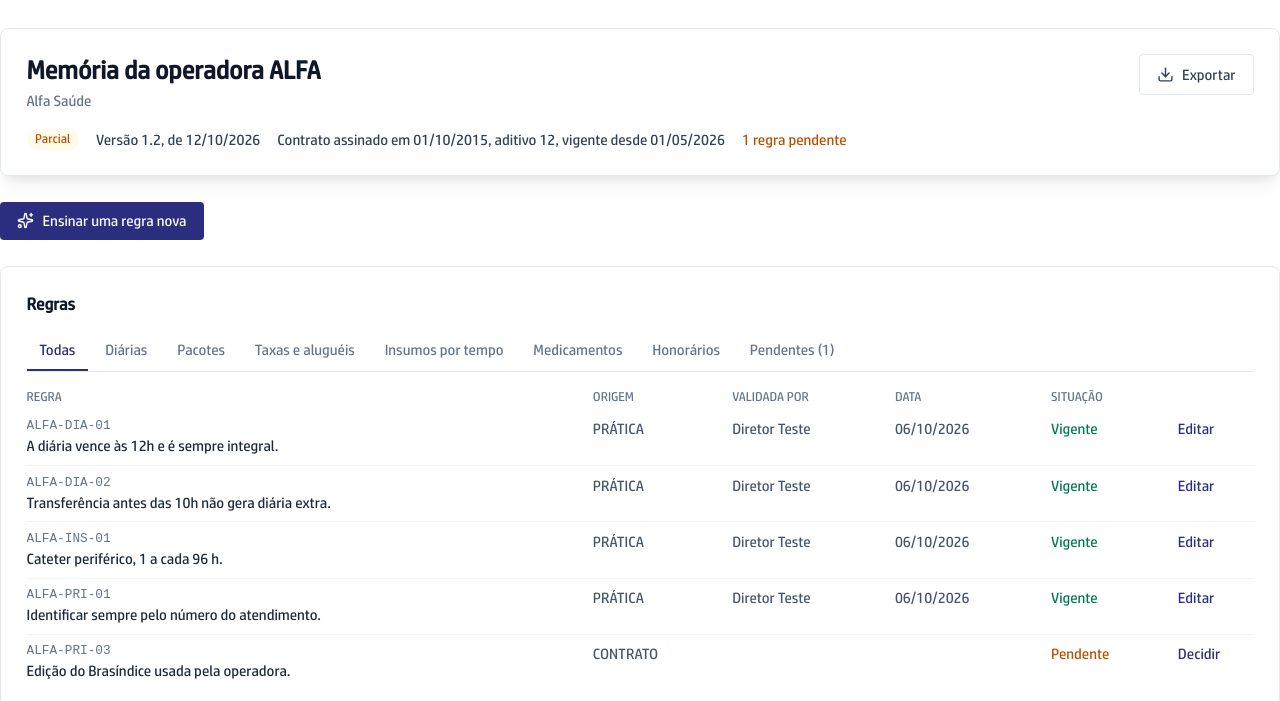
Test: editar e decidir › editar manda o texto, o tipo e a origem, mostra a versão nova e relê a memória
This screenshot has width=1280, height=701.
Click the button "Editar" in the row of "ALFA-DIA-01" at (1196, 429), box [1178,418,1214,440]
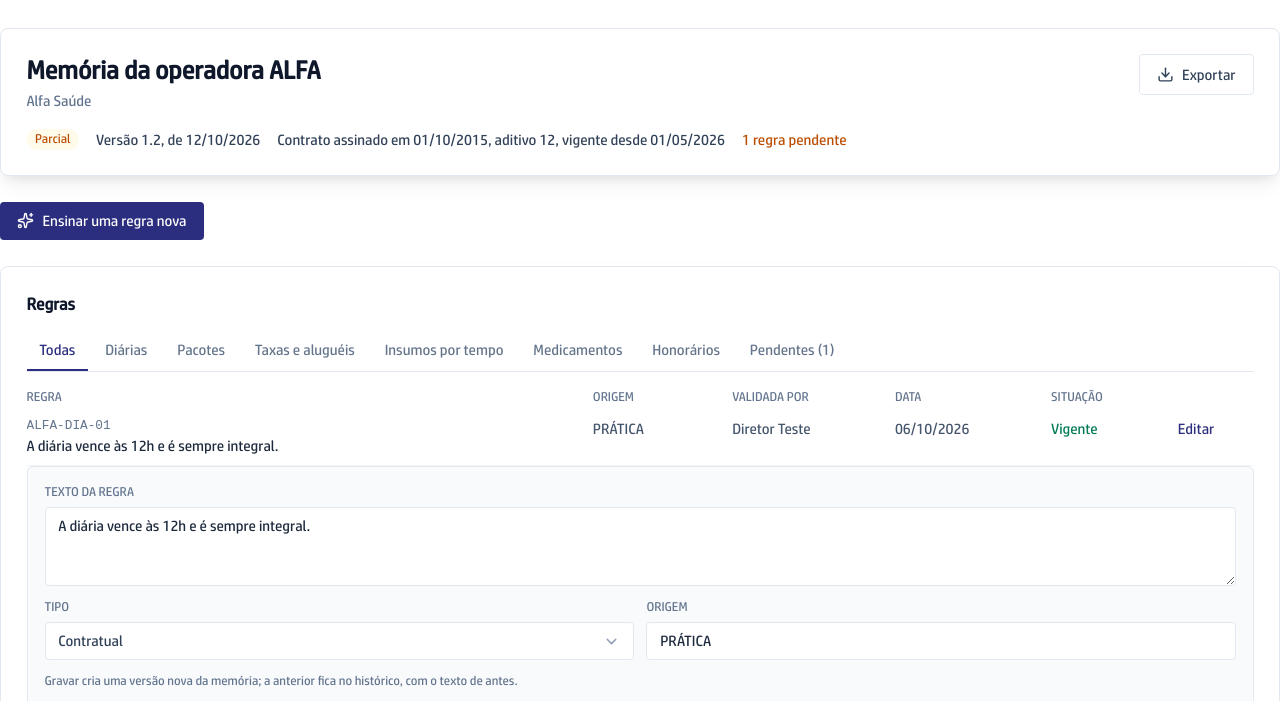
Check: the text box labelled "Texto da regra" holds "A diária vence às 12h e é sempre integral."
Replace the text in the text box labelled "Texto da regra" with "A diária vence às 14h e é sempre integral." at (640, 547), box [44,507,1236,586]
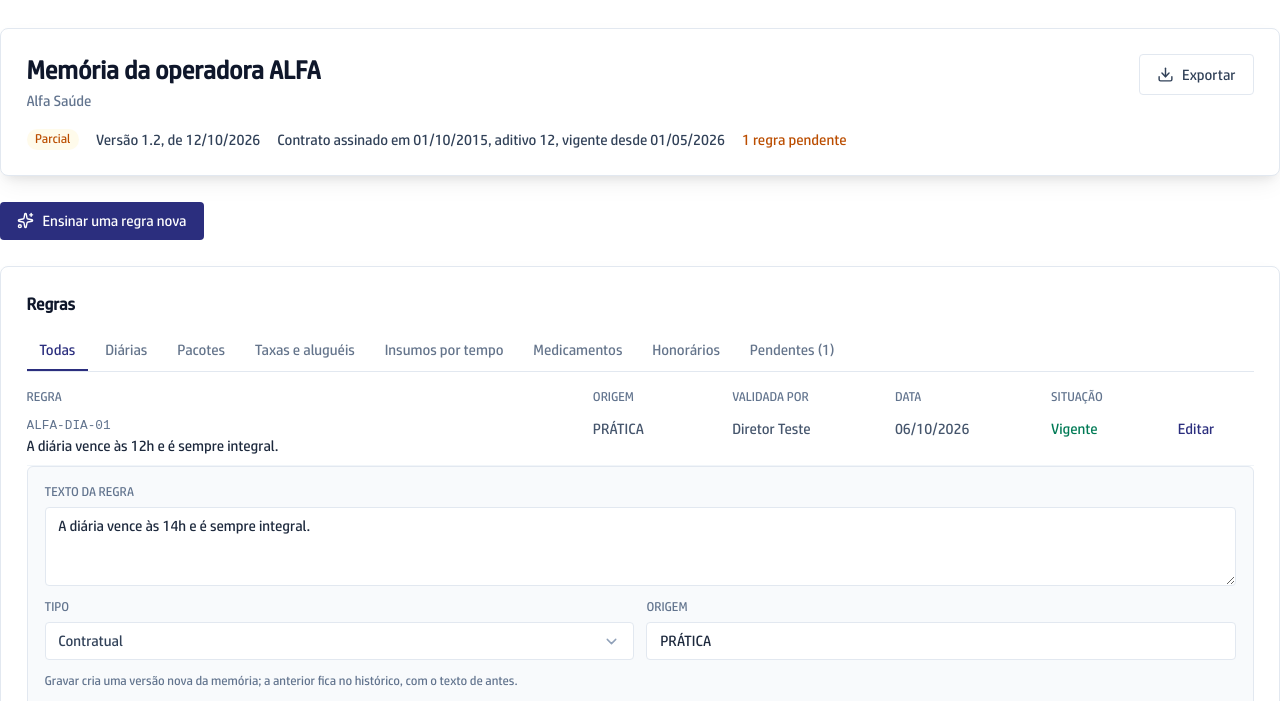
Replace the text in the field labelled "Origem" with "ADITIVO 12" at (941, 641), box [646,622,1236,660]
(page scrolled)
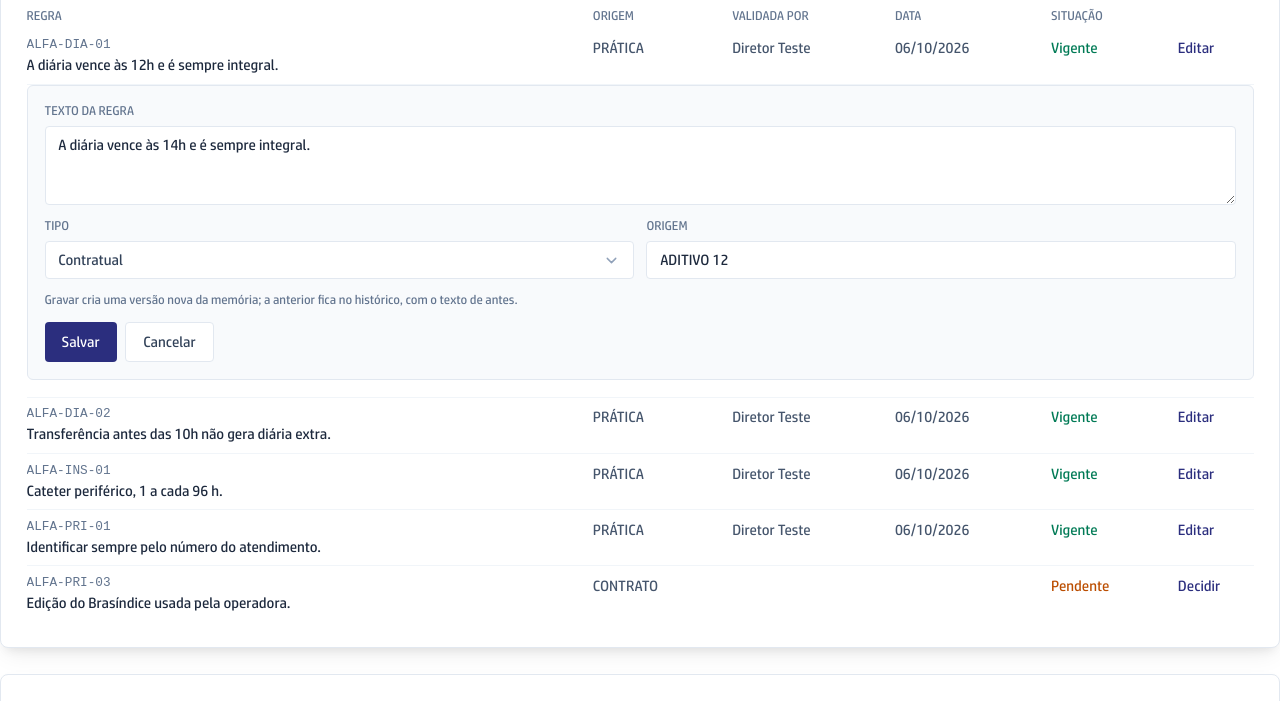
Click the button "Salvar" at (81, 342), box [44,322,117,362]
(page scrolled)
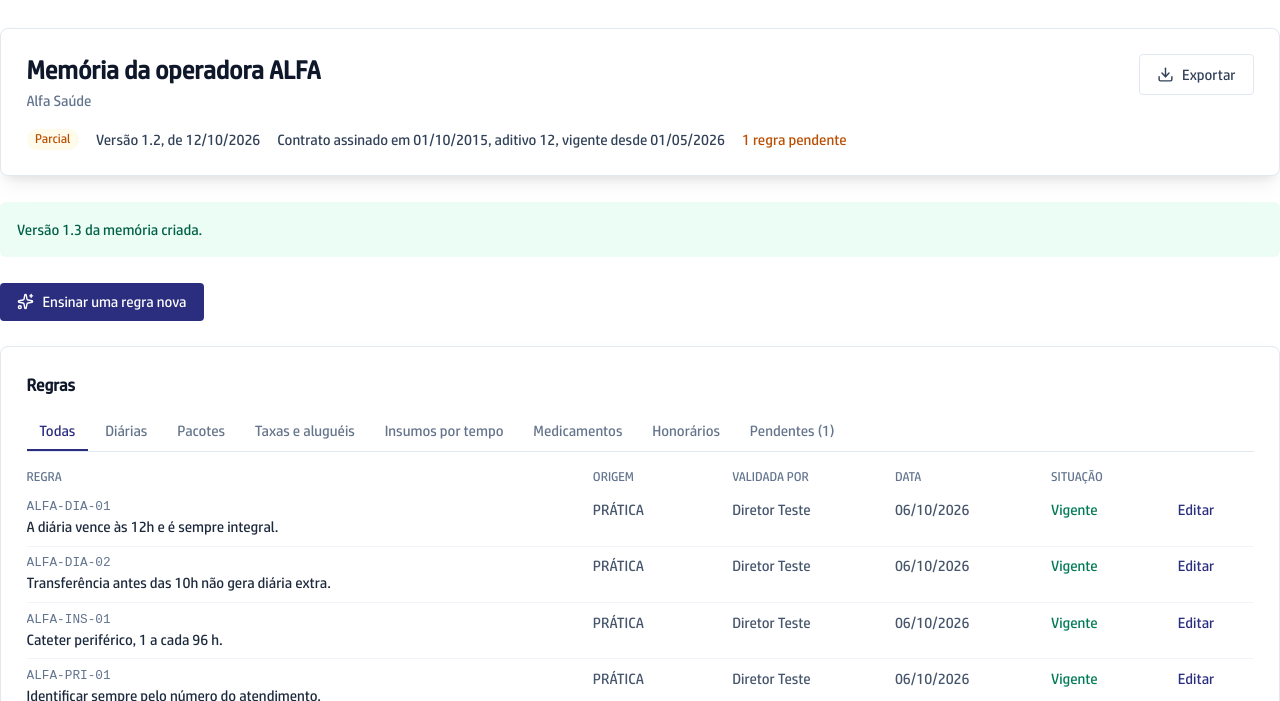
Check: the message shows "Versão 1.3 da memória criada", box [17,221,202,238]
